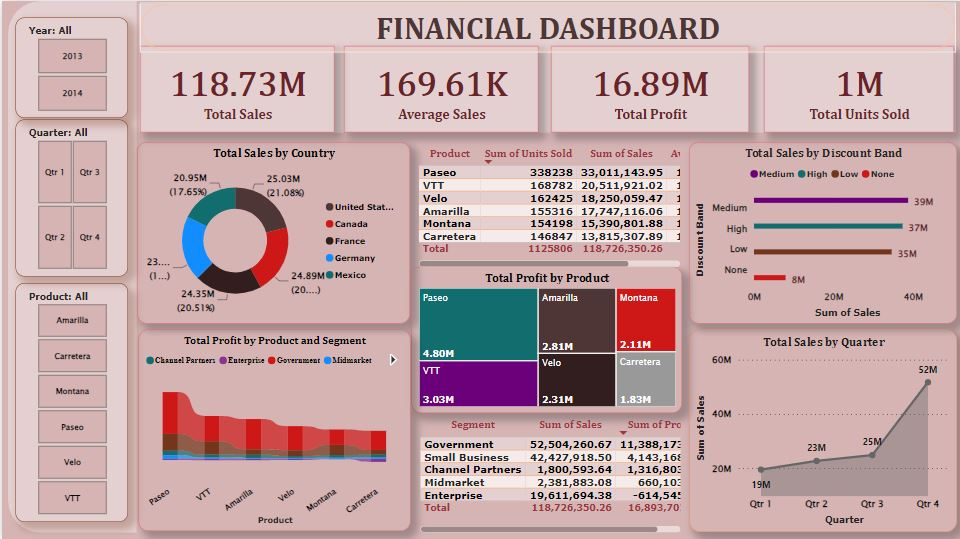

This screenshot's page, from the dashboard's own definition file:
{"tool":"powerbi","page":{"name":"Financial Dashboard","canvas":[1280,720],"ordinal":0},"visuals":[{"type":"shape","box":[7.8,0,171.8,709.1],"z":0},{"type":"shape","box":[182.7,4.7,1090.2,171.8],"z":1000},{"type":"card","fields":{"Values":["MEASURES (2).Total_Revenue"]},"box":[184.3,60.9,259.3,115.6],"z":2000},{"type":"card","fields":{"Values":["MEASURES (2).Average_revenue"]},"box":[456.1,60.9,259.3,115.6],"z":3000},{"type":"card","fields":{"Values":["MEASURES (2).Total Profit"]},"box":[732.5,60.9,263.9,115.6],"z":4000},{"type":"card","fields":{"Values":["MEASURES (2).Total_Units_Sold"]},"box":[1015.2,60.9,253,115.6],"z":5000},{"type":"donutChart","fields":{"Y":["MEASURES (2).Total Revenue"],"Category":["financials.Country"]},"box":[179.6,187.4,363.9,242.1],"z":6000},{"type":"treemap","title":"Total Profit by Product","fields":{"Values":["Sum(financials.Profit)"],"Group":["financials.Product"]},"box":[546.6,354.5,360.8,195.2],"z":7000},{"type":"clusteredBarChart","title":"Total Sales by Discount Band","fields":{"Y":["Sum(financials. Sales)"],"Category":["financials.Discount Band"],"Series":["financials.Discount Band"]},"box":[915.2,187.4,357.7,242.1],"z":8000},{"type":"areaChart","title":"Total Sales by Quarter","fields":{"Y":["Sum(financials. Sales)"],"Category":["financials.Date.Variation.Date Hierarchy.Quarter"]},"box":[915.2,437.3,357.7,270.2],"z":9000},{"type":"ribbonChart","title":"Total Profit by Product and Segment","fields":{"Y":["Sum(financials.Profit)"],"Category":["financials.Product"],"Series":["financials.Segment"]},"box":[181.2,437.3,362.3,268.6],"z":10000},{"type":"tableEx","fields":{"Values":["financials.Product","Sum(financials.Units Sold)","Sum(financials. Sales)","MEASURES (2).Average Sales"]},"box":[549.8,187.4,359.2,171.8],"z":11000},{"type":"tableEx","fields":{"Values":["financials.Segment","Sum(financials. Sales)","Sum(financials.Profit)"]},"box":[551.3,549.8,357.7,164],"z":12000},{"type":"slicer","fields":{"Values":["financials.Year"]},"box":[17.2,14.1,149.9,134.3],"z":13000},{"type":"slicer","fields":{"Values":["financials.Date.Variation.Date Hierarchy.Quarter"]},"box":[17.2,157.7,149.9,209.3],"z":14000},{"type":"slicer","fields":{"Values":["financials.Product"]},"box":[17.2,376.4,149.9,318.6],"z":15000},{"type":"shape","box":[184.3,1.6,1088.6,65.6],"z":16000}]}

Visuals, with their boxes in screenshot pixels (x1, y1, x2, y2), scaled from the page's 1280x720 canvas onto the 960x539 screenshot:
shape: bbox=[6, 0, 135, 531]
shape: bbox=[137, 4, 955, 132]
card - MEASURES (2).Total_Revenue: bbox=[138, 46, 333, 132]
card - MEASURES (2).Average_revenue: bbox=[342, 46, 537, 132]
card - MEASURES (2).Total Profit: bbox=[549, 46, 747, 132]
card - MEASURES (2).Total_Units_Sold: bbox=[761, 46, 951, 132]
donutChart - MEASURES (2).Total Revenue x financials.Country: bbox=[135, 140, 408, 322]
"Total Profit by Product" treemap: bbox=[410, 265, 681, 412]
"Total Sales by Discount Band" clusteredBarChart: bbox=[686, 140, 955, 322]
"Total Sales by Quarter" areaChart: bbox=[686, 327, 955, 530]
"Total Profit by Product and Segment" ribbonChart: bbox=[136, 327, 408, 528]
tableEx - financials.Product x Sum(financials.Units Sold): bbox=[412, 140, 682, 269]
tableEx - financials.Segment x Sum(financials. Sales): bbox=[413, 412, 682, 534]
slicer - financials.Year: bbox=[13, 11, 125, 111]
slicer - financials.Date.Variation.Date Hierarchy.Quarter: bbox=[13, 118, 125, 275]
slicer - financials.Product: bbox=[13, 282, 125, 520]
shape: bbox=[138, 1, 955, 50]
